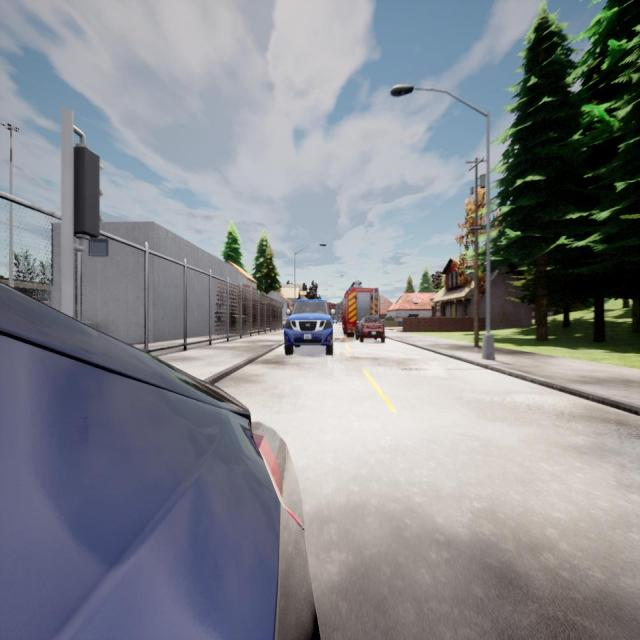Vehicle: (0, 284, 317, 640), (284, 300, 333, 355), (342, 281, 380, 337), (356, 316, 385, 342)
traffic_light: (74, 148, 101, 235)
